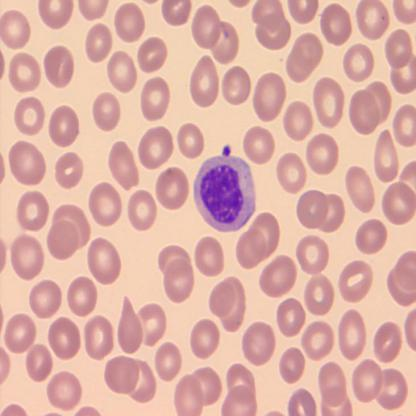Metamyelocyte: (191, 142, 259, 236)
